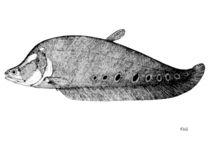Knifefish: (7, 28, 205, 103)
